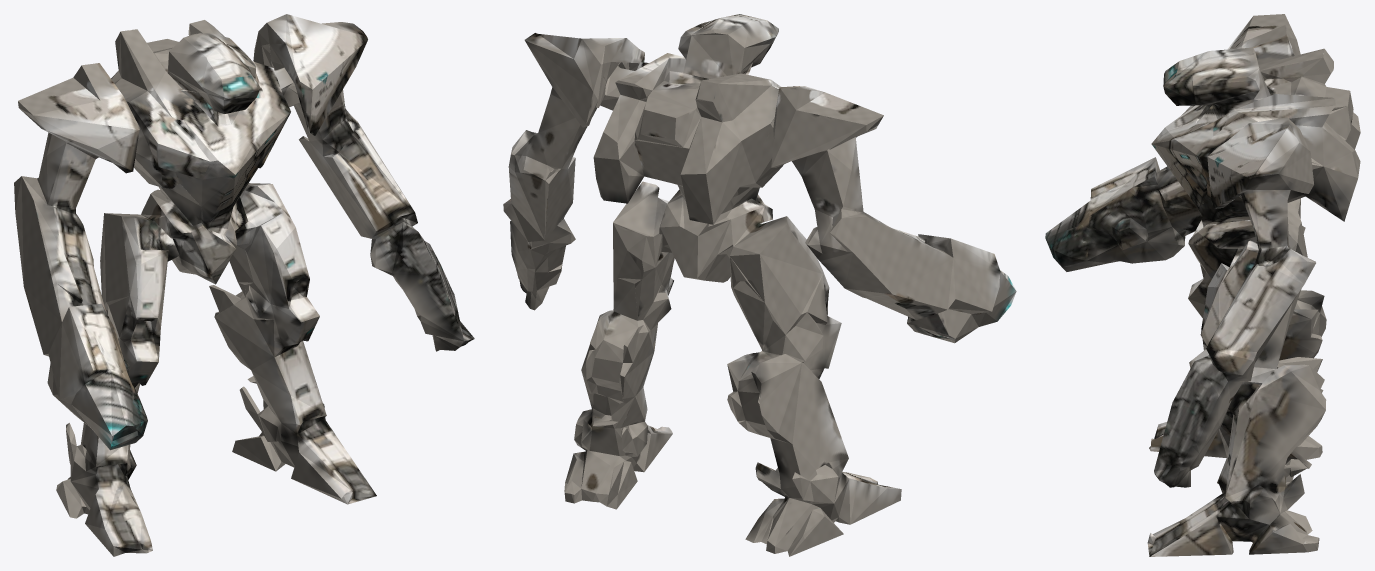
Rendered from commander_lod2.glb.
3 renders of one model, left to right at view 1: azimuth 30°, elevation 25°; view 2: azimuth 150°, elevation 25°; view 3: azimuth 270°, elevation 25°, orthographic. The views are drawn at different scales.
Visible parts, largest first — view 1: SelaCommander; view 2: SelaCommander; view 3: SelaCommander.
Boxes of the visible parts, bbox=[...] form: SelaCommander: bbox=[14, 14, 474, 556]; SelaCommander: bbox=[503, 14, 1016, 556]; SelaCommander: bbox=[1045, 14, 1360, 556].
Bounding box in the file's own units: 1.97 × 1.99 × 1.28.
1 material, 1 textured.
